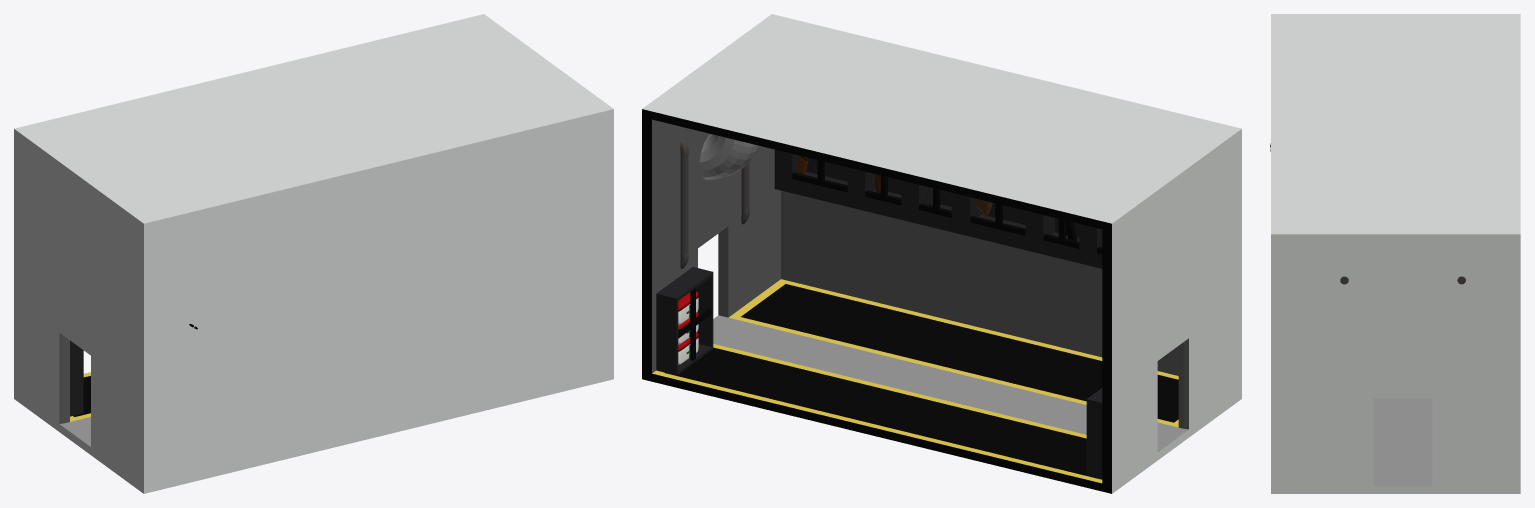
The model's file is ArmRoom.fbx.
3 views of the same model, side by side, from view 1: azimuth 30°, elevation 25°; view 2: azimuth 150°, elevation 25°; view 3: azimuth 270°, elevation 25° (orthographic). The views are drawn at different scales.
Visible parts, largest first — view 1: BaseRoom.004, Cube.083; view 2: BaseRoom.004, Cube.022, Cube.031, Cube.025, Cube.024, Pipe.006, Cube.027, Cube.083, Cube.023, Cylinder.036; view 3: BaseRoom.004.
Part boxes in pixels (x1,y1,x2,y2): BaseRoom.004: (14,14,613,493); Cube.083: (70,340,83,416); BaseRoom.004: (642,14,1241,493); Cube.022: (774,149,981,236); Cube.031: (656,267,713,375); Cube.025: (847,167,1043,254); Cube.024: (901,180,1102,261); Pipe.006: (699,134,759,179); Cube.027: (792,172,1102,254); Cube.083: (1086,388,1102,479); Cube.023: (1026,211,1102,268); Cylinder.036: (680,138,688,268); BaseRoom.004: (1271,14,1520,493).
Bounding box in the file's own units: 1807 × 992 × 866.
